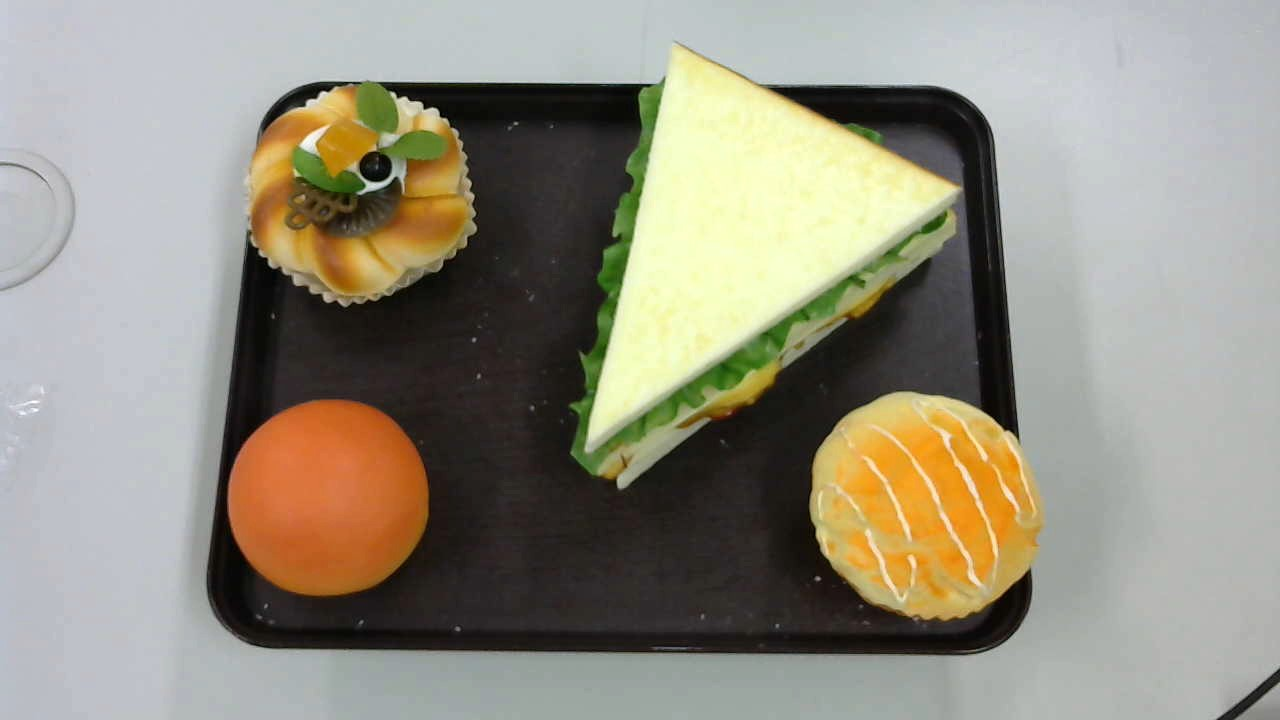bun: (227, 399, 430, 594)
cupcake: (808, 391, 1046, 623)
fruit tart: (243, 80, 482, 307)
sandwich: (570, 41, 964, 487)
